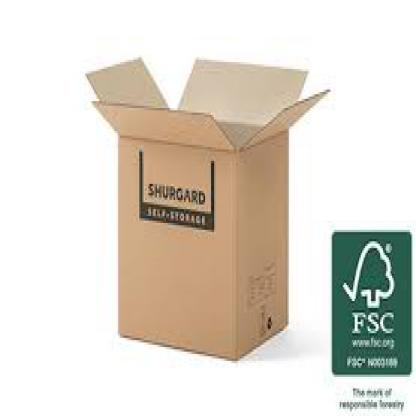CARDBOARD: (84, 57, 328, 361)
